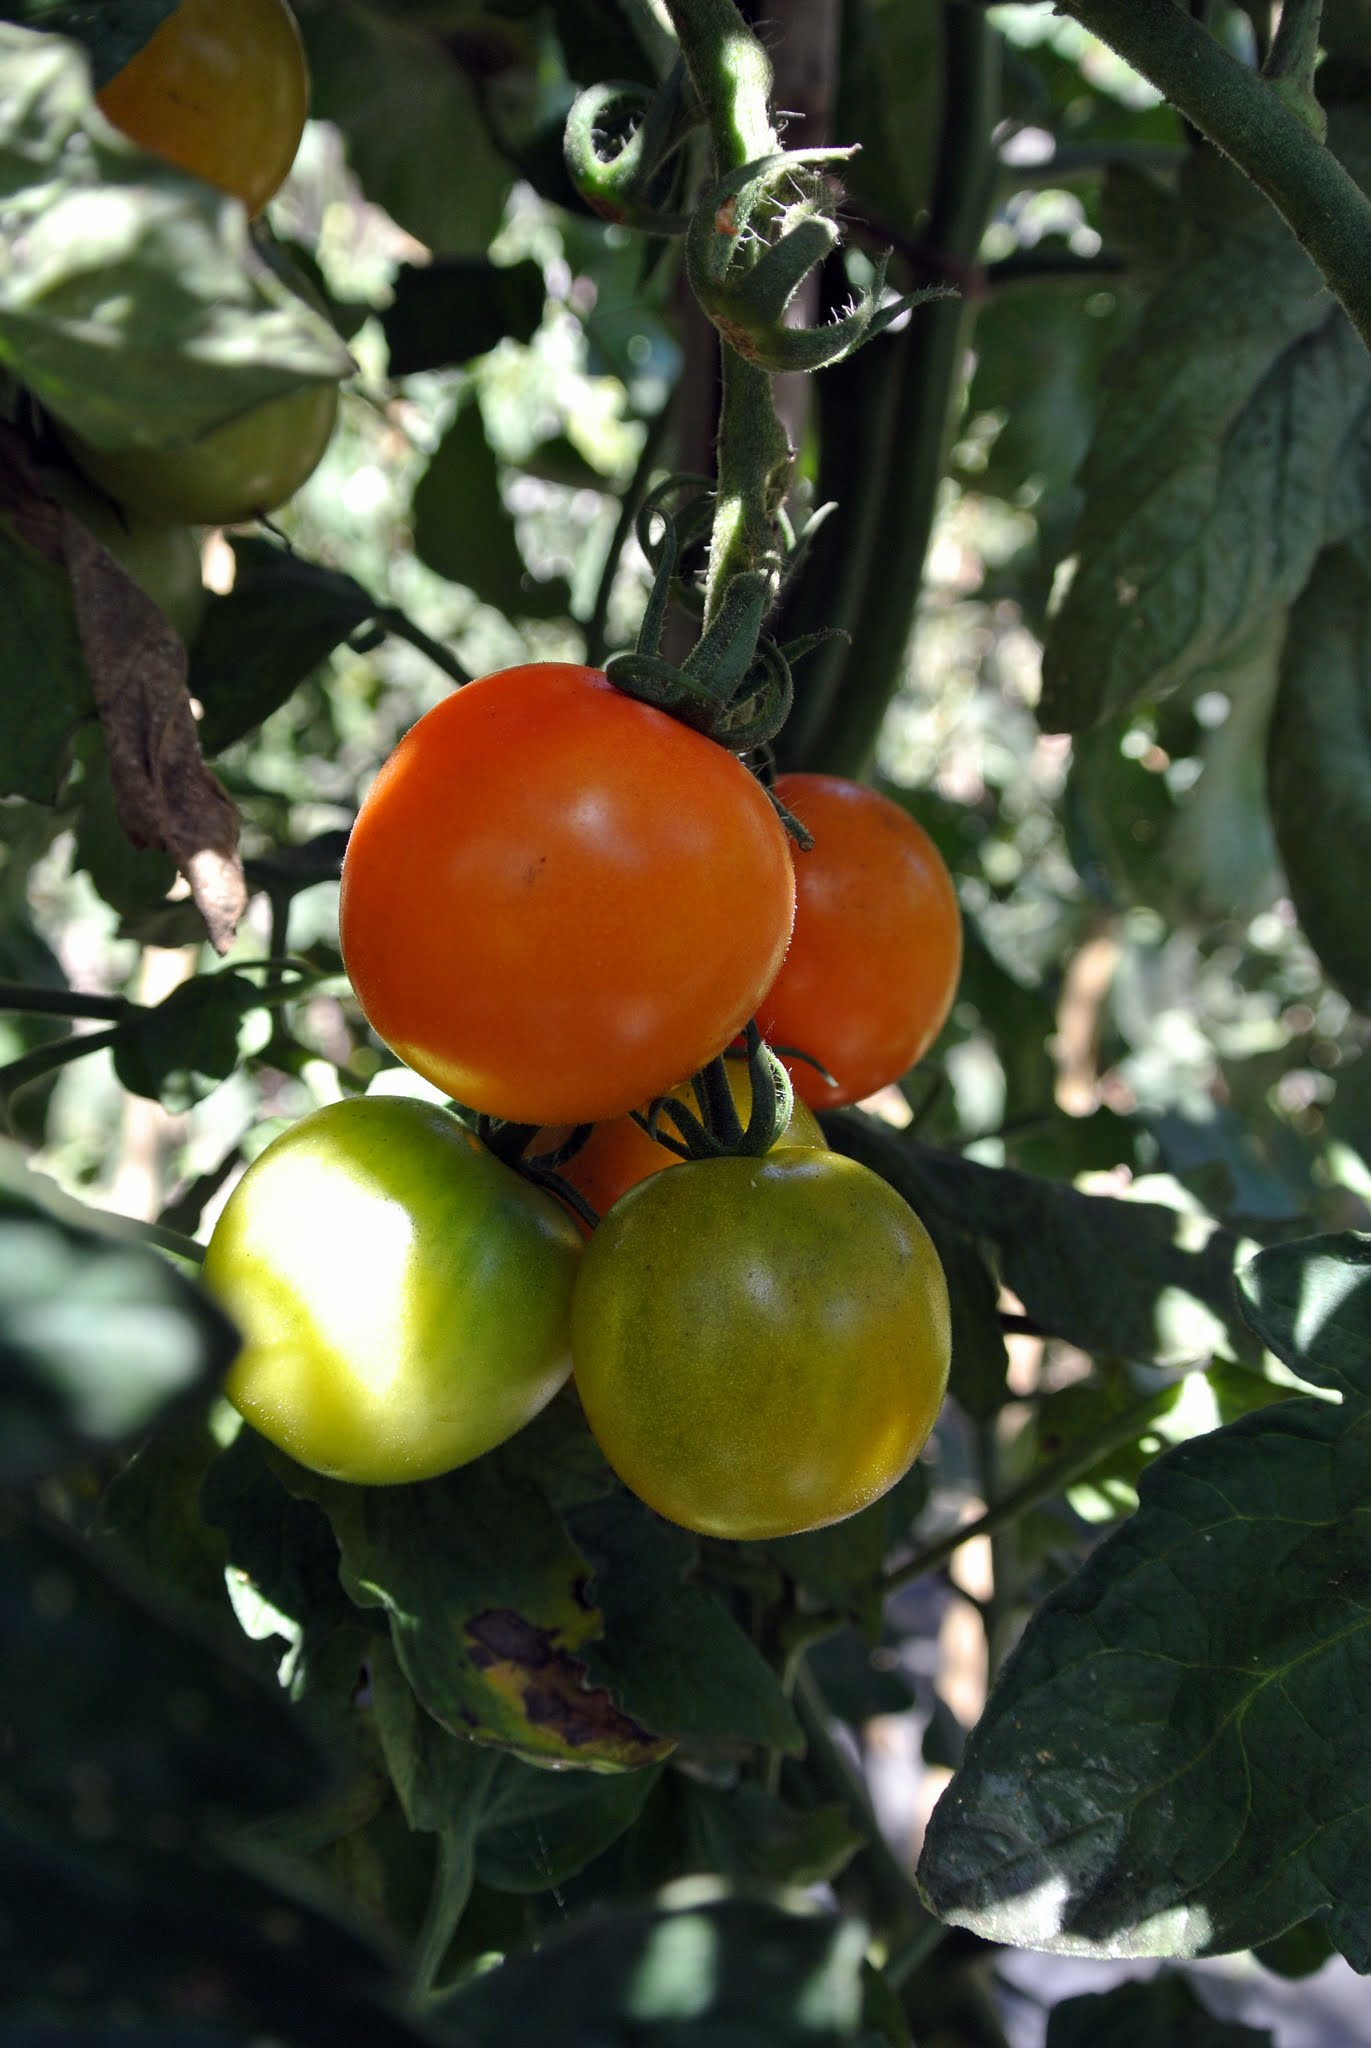stems: (692, 1055, 774, 1165), (480, 1120, 543, 1175)
tomato: (335, 658, 793, 1126), (571, 1147, 955, 1539), (200, 1094, 585, 1482), (747, 765, 966, 1109), (468, 1061, 829, 1222)
